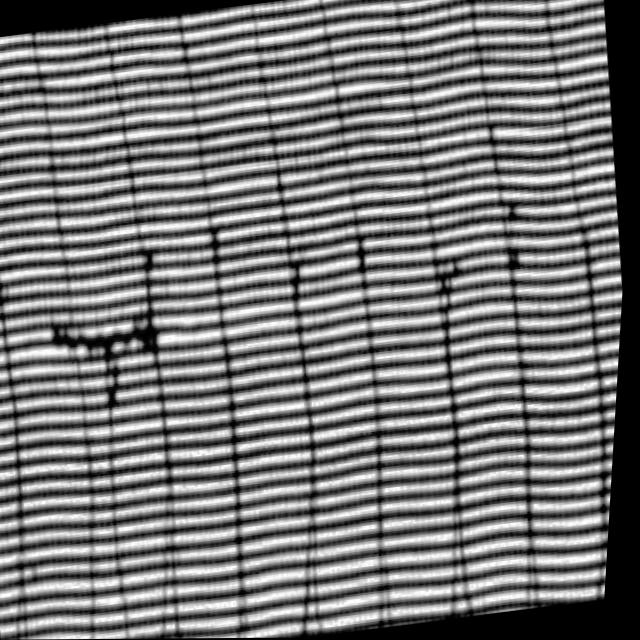Stitch: (43, 287, 176, 397)
